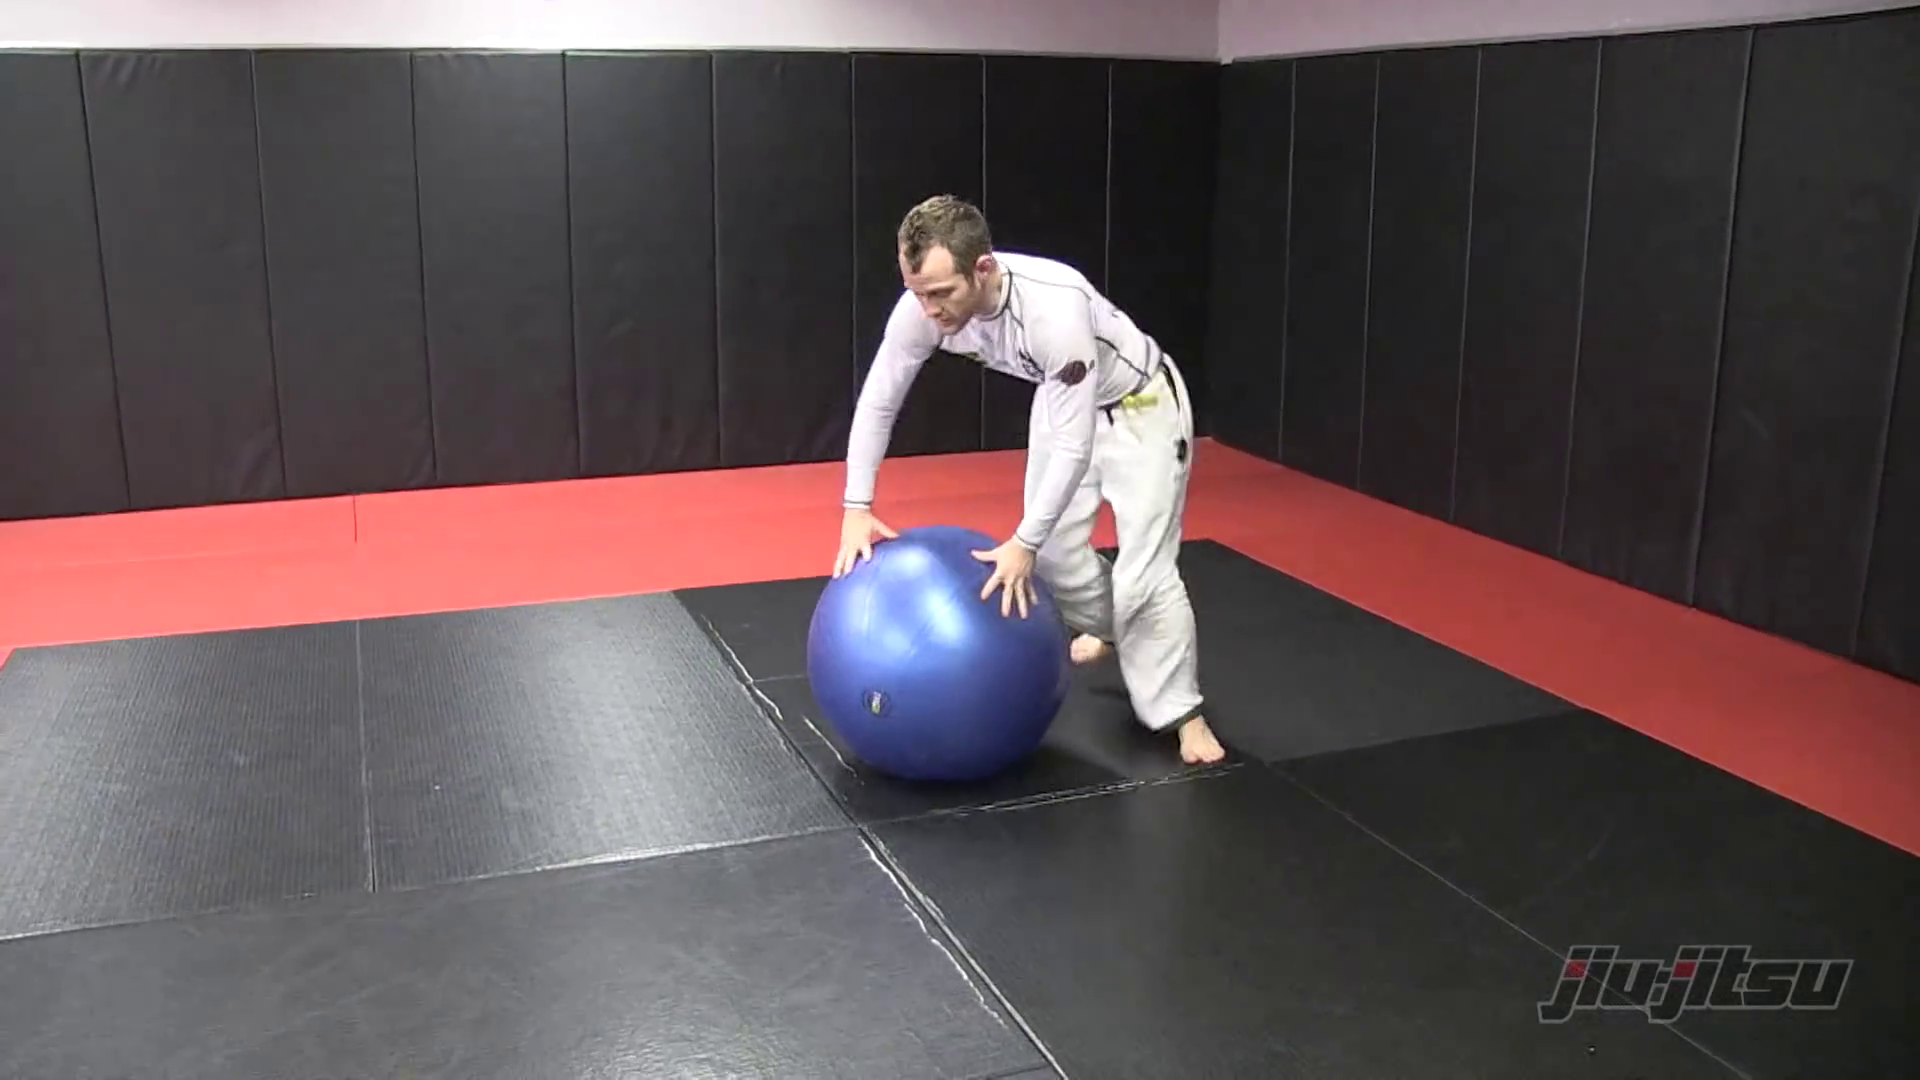yogaball: (785, 514, 1084, 808)
